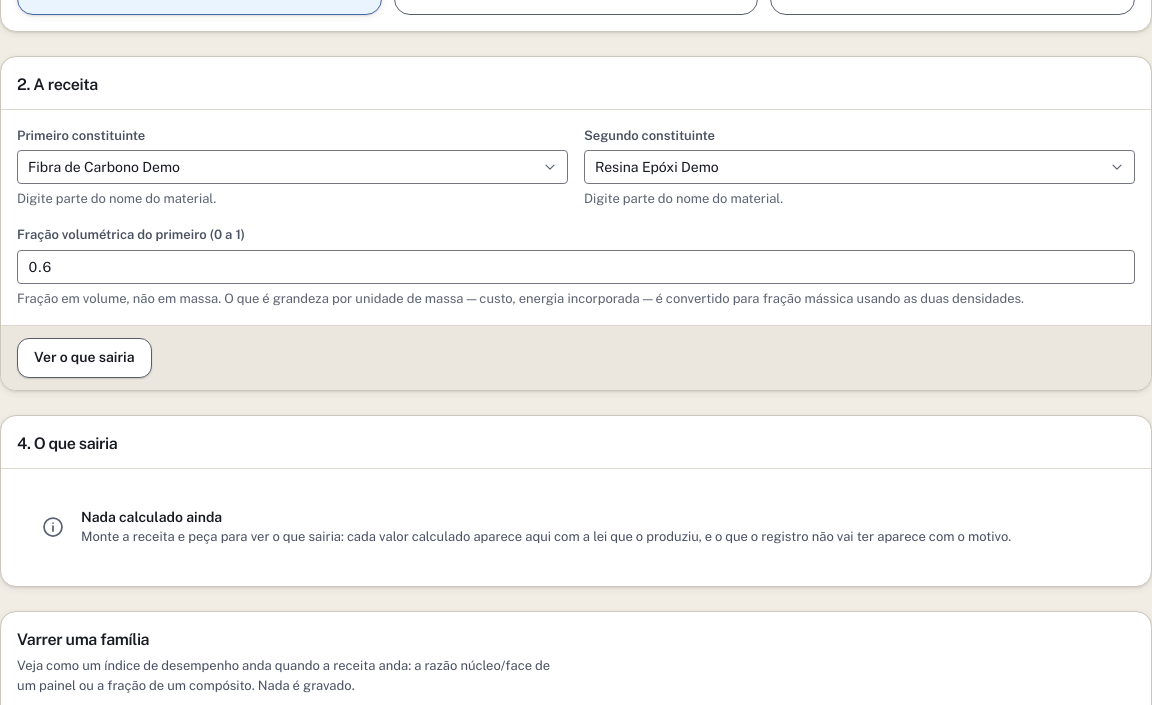
Sintetizar material › mostra o módulo como par de limites e não como um número só
(page scrolled)
Click the button "Ver o que sairia" at (84, 358), box top-left (17, 338), bottom-right (152, 378)
(page scrolled)
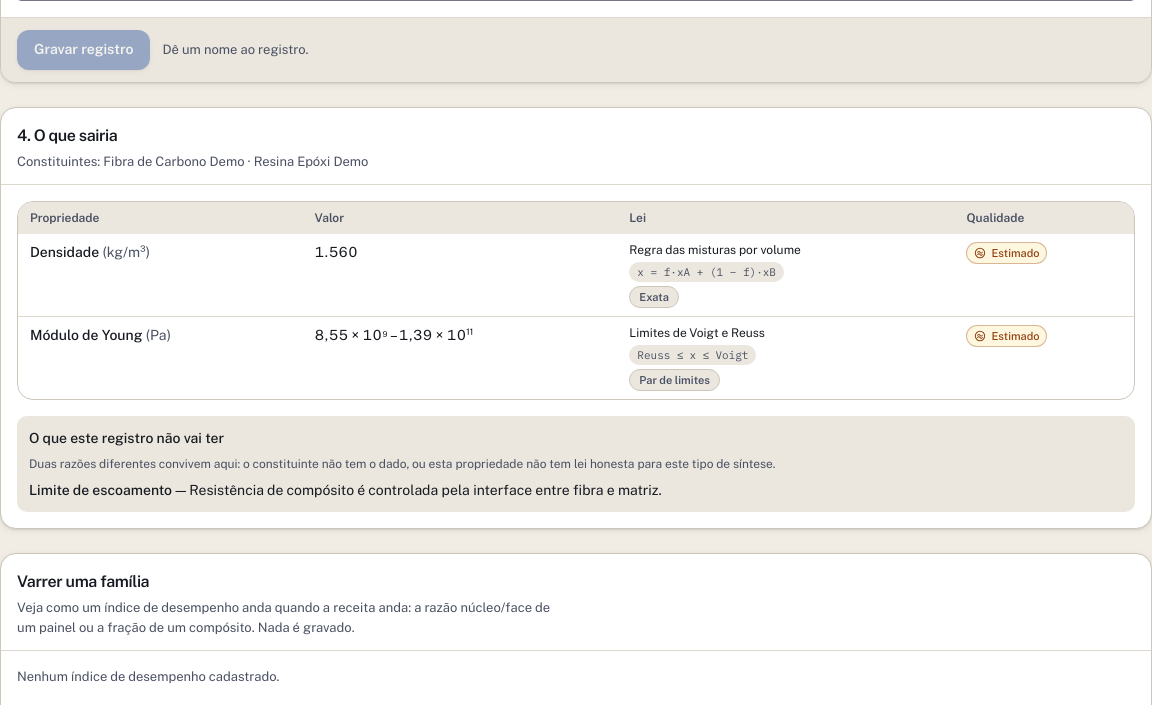
expect the row that starts with "Módulo de Young" shows "–": met, box top-left (388, 326), bottom-right (399, 342)
